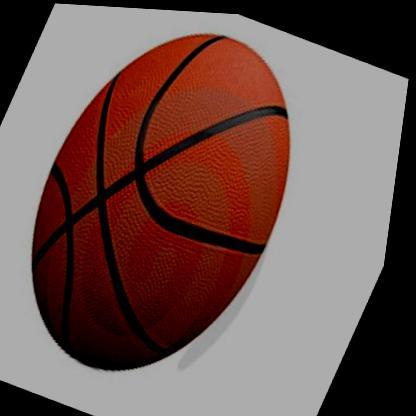basketball: (0, 1, 349, 408)
